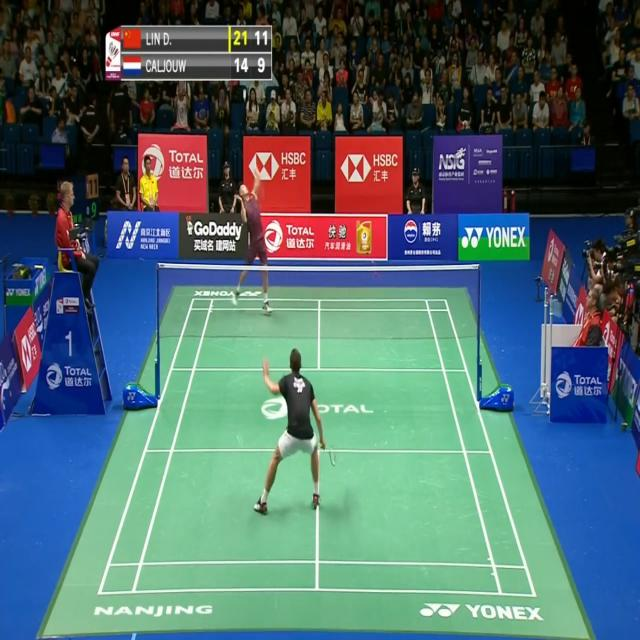Player1: (252, 338, 344, 522)
Player2: (233, 166, 277, 315)
